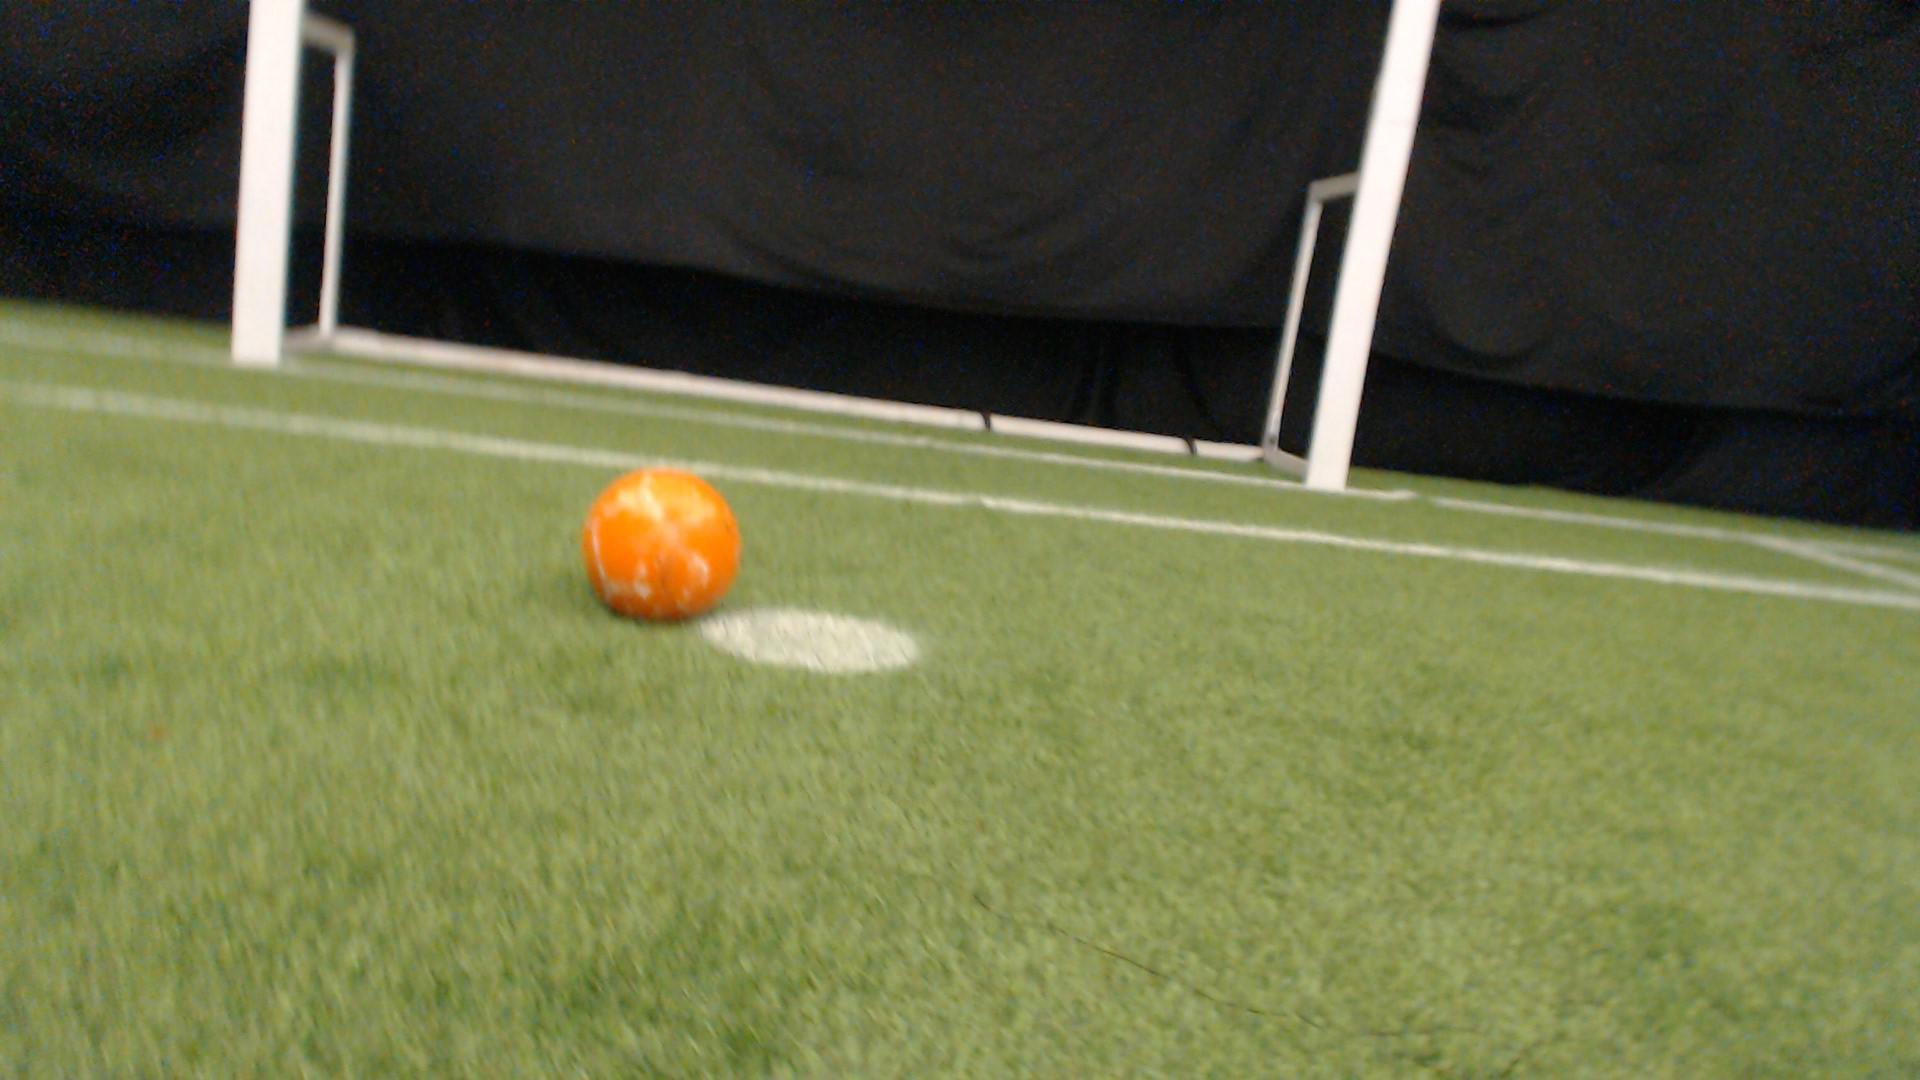bola: (564, 463, 761, 640)
